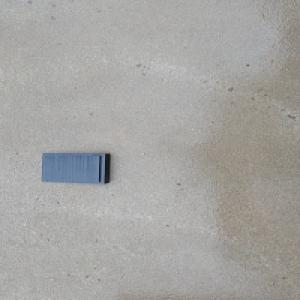PlasticPart: (39, 151, 111, 185)
